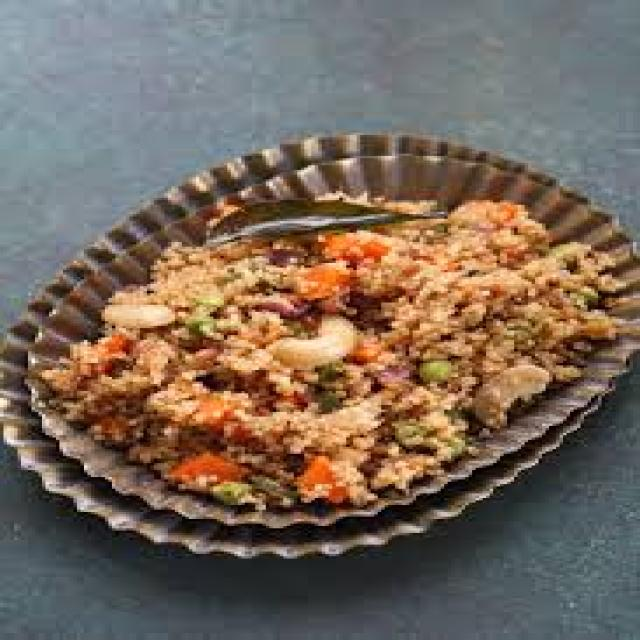BAJI: (28, 195, 623, 507)
